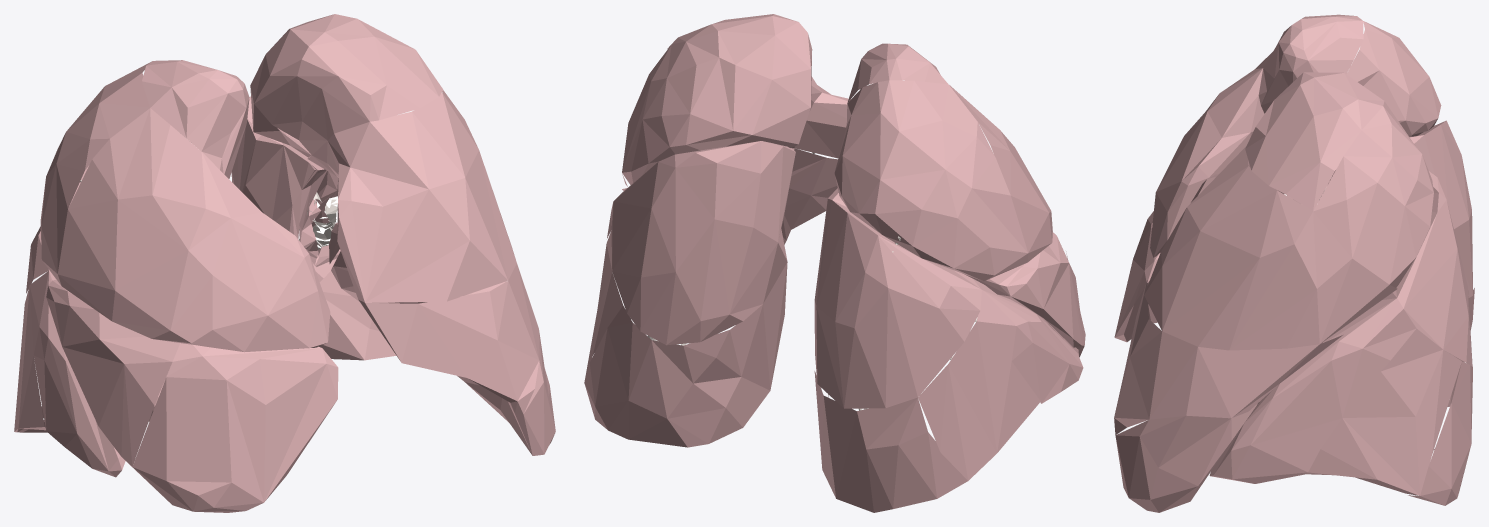
The model's file is hra-lungs.glb.
The picture shows the model from 3 angles, left to right: view 1: azimuth 30°, elevation 25°; view 2: azimuth 150°, elevation 25°; view 3: azimuth 270°, elevation 25°; orthographic projection. The views are drawn at different scales.
Parts seen in each view (by area): view 1: VH_M_right_anterior_bronchopulmonary_segment, VH_M_left_anterior_bronchopulmonary_segment, VH_M_right_medial_bronchopulmonary_segment, VH_M_left_apical_bronchopulmonary_segment, VH_M_left_lingula_superior_bronchopulmonary_segment, VH_M_right_lateral_bronchopulmonary_segment, VH_M_right_apical_bronchopulmonary_segment, VH_M_right_posterior_bronchopulmonary_segment, VH_M_right_anterior_basal_bronchopulmonary_segment, VH_M_left_superior_bronchopulmonary_segment, VH_M_left_lingula_inferior_bronchopulmonary_segment, VH_M_left_medial_basal_bronchopulmonary_segment (+5 smaller); view 2: VH_M_left_superior_bronchopulmonary_segment, VH_M_right_posterior_bronchopulmonary_segment, VH_M_right_superior_bronchopulmonary_segment, VH_M_left_posetrior_basal_bronchopulmonary_segment, VH_M_left_posterior_bronchopulmonary_segment, VH_M_right_posterior_basal_bronchopulmonary_segment, VH_M_right_lateral_basal_bronchopulmonary_segment, VH_M_left_apical_bronchopulmonary_segment, VH_M_right_anterior_basal_bronchopulmonary_segment, VH_M_right_lateral_bronchopulmonary_segment, VH_M_right_anterior_bronchopulmonary_segment, VH_M_left_lingula_superior_bronchopulmonary_segment (+3 smaller); view 3: VH_M_left_anterior_bronchopulmonary_segment, VH_M_left_lateral_basal_bronchopulmonary_segment, VH_M_left_anterior_basal_bronchopulmonary_segment, VH_M_left_posterior_bronchopulmonary_segment, VH_M_left_lingula_superior_bronchopulmonary_segment, VH_M_left_apical_bronchopulmonary_segment, VH_M_left_lingula_inferior_bronchopulmonary_segment, VH_M_right_anterior_bronchopulmonary_segment, VH_M_left_superior_bronchopulmonary_segment, VH_M_right_posterior_bronchopulmonary_segment, VH_M_right_apical_bronchopulmonary_segment, VH_M_left_posetrior_basal_bronchopulmonary_segment (+3 smaller).
Part boxes in pixels (box(x1,y1,x2,y2)): VH_M_right_anterior_bronchopulmonary_segment: box(57, 108, 330, 352); VH_M_left_anterior_bronchopulmonary_segment: box(327, 90, 516, 302); VH_M_right_medial_bronchopulmonary_segment: box(129, 343, 338, 512); VH_M_left_apical_bronchopulmonary_segment: box(254, 14, 443, 162); VH_M_left_lingula_superior_bronchopulmonary_segment: box(359, 263, 539, 414); VH_M_right_lateral_bronchopulmonary_segment: box(46, 279, 180, 466); VH_M_right_apical_bronchopulmonary_segment: box(142, 60, 249, 178); VH_M_right_posterior_bronchopulmonary_segment: box(40, 61, 151, 285); VH_M_right_anterior_basal_bronchopulmonary_segment: box(29, 270, 164, 477); VH_M_left_superior_bronchopulmonary_segment: box(231, 96, 314, 238); VH_M_left_lingula_inferior_bronchopulmonary_segment: box(331, 251, 555, 455); VH_M_left_medial_basal_bronchopulmonary_segment: box(319, 271, 506, 360); VH_M_left_superior_bronchopulmonary_segment: box(611, 141, 795, 345); VH_M_right_posterior_bronchopulmonary_segment: box(834, 80, 1028, 281); VH_M_right_superior_bronchopulmonary_segment: box(814, 188, 981, 408); VH_M_left_posetrior_basal_bronchopulmonary_segment: box(584, 262, 787, 447); VH_M_left_posterior_bronchopulmonary_segment: box(622, 41, 810, 184); VH_M_right_posterior_basal_bronchopulmonary_segment: box(814, 371, 967, 512); VH_M_right_lateral_basal_bronchopulmonary_segment: box(918, 321, 1040, 480); VH_M_left_apical_bronchopulmonary_segment: box(667, 14, 812, 107); VH_M_right_anterior_basal_bronchopulmonary_segment: box(972, 278, 1083, 403); VH_M_right_lateral_bronchopulmonary_segment: box(964, 233, 1084, 349); VH_M_right_anterior_bronchopulmonary_segment: box(949, 85, 1052, 262); VH_M_left_lingula_superior_bronchopulmonary_segment: box(622, 148, 837, 240); VH_M_left_anterior_bronchopulmonary_segment: box(1144, 146, 1397, 350); VH_M_left_lateral_basal_bronchopulmonary_segment: box(1306, 328, 1461, 495); VH_M_left_anterior_basal_bronchopulmonary_segment: box(1210, 298, 1416, 483); VH_M_left_posterior_bronchopulmonary_segment: box(1313, 101, 1433, 287); VH_M_left_lingula_superior_bronchopulmonary_segment: box(1114, 280, 1342, 434); VH_M_left_apical_bronchopulmonary_segment: box(1245, 72, 1384, 210); VH_M_left_lingula_inferior_bronchopulmonary_segment: box(1115, 402, 1259, 512); VH_M_right_anterior_bronchopulmonary_segment: box(1150, 52, 1272, 257); VH_M_left_superior_bronchopulmonary_segment: box(1392, 171, 1472, 366); VH_M_right_posterior_bronchopulmonary_segment: box(1346, 21, 1441, 136); VH_M_right_apical_bronchopulmonary_segment: box(1258, 14, 1363, 113); VH_M_left_posetrior_basal_bronchopulmonary_segment: box(1408, 361, 1472, 505).
Size of the model in its own units: 0.2582 by 0.2275 by 0.1893.
